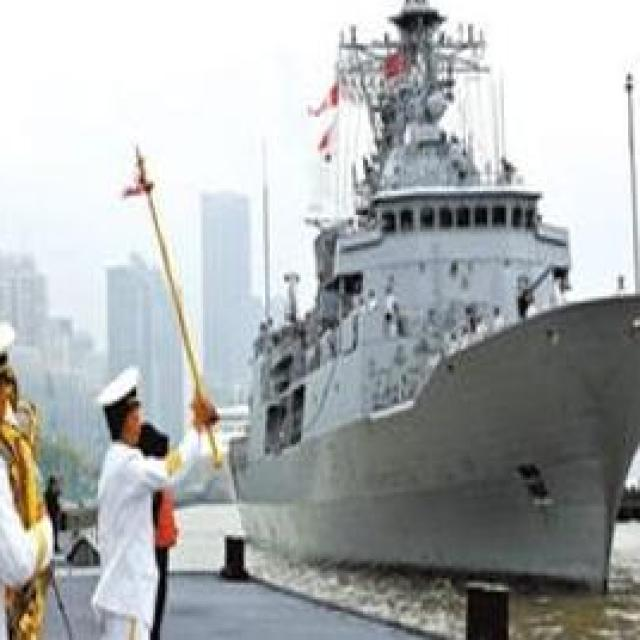navalvessels: (219, 0, 640, 594)
